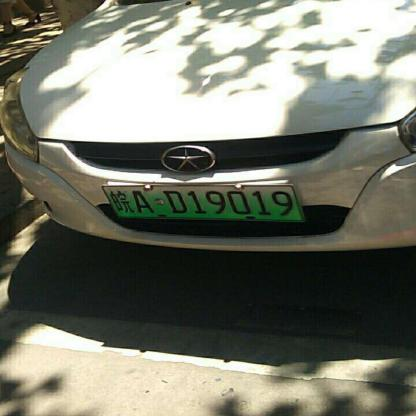lp: (100, 184, 302, 219)
